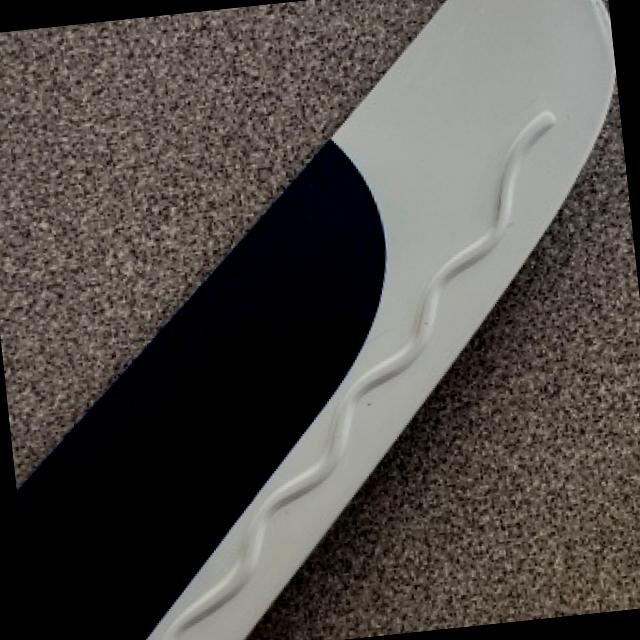healthy: (248, 83, 640, 640)
